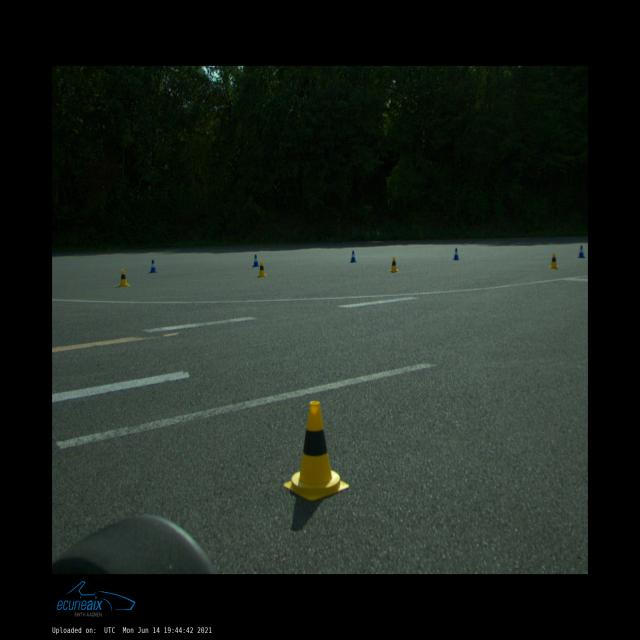blue_cone: (577, 245, 585, 258), (149, 260, 157, 273), (452, 248, 460, 260), (252, 255, 260, 266), (350, 250, 356, 262)
yellow_cone: (284, 401, 349, 501), (118, 268, 130, 286), (257, 261, 267, 277), (389, 257, 398, 272), (550, 253, 558, 268)
